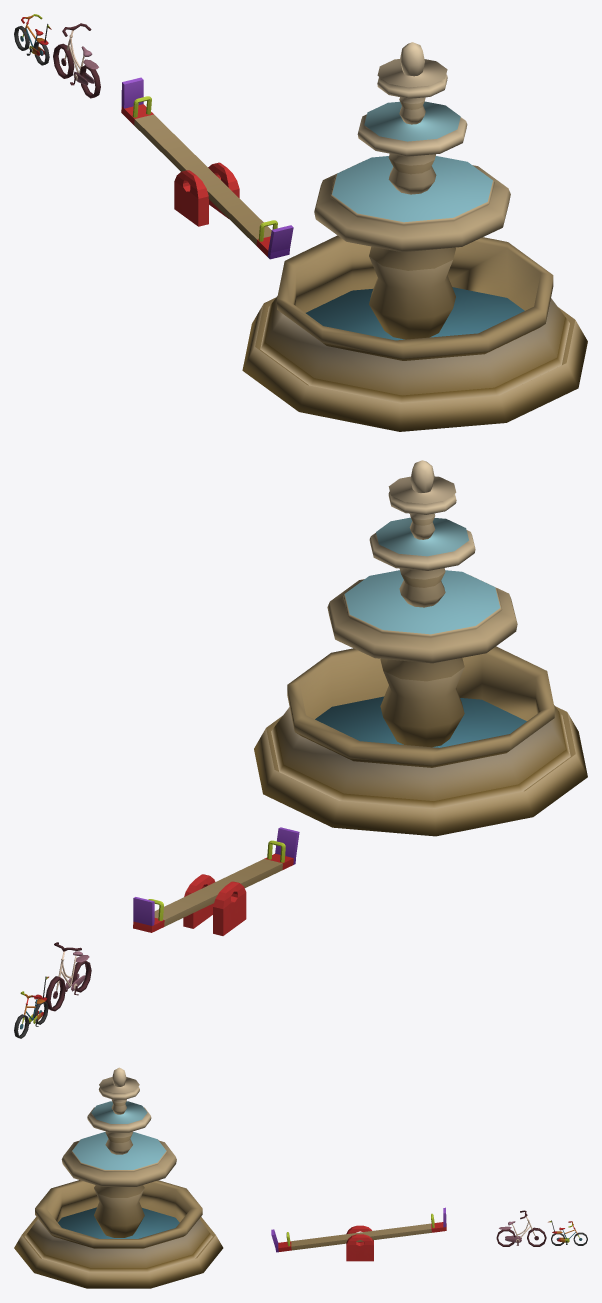
The model's file is Bikes+ExtraPark.fbx.
The picture shows the model from 3 angles, top to bottom: view 1: azimuth 30°, elevation 25°; view 2: azimuth 150°, elevation 25°; view 3: azimuth 270°, elevation 25°; orthographic projection. The views are drawn at different scales.
Visible parts, largest first — view 1: Cube.033, Cylinder.015, Cube.038, Cylinder.033; view 2: Cube.033, Cylinder.015, Cube.038, Cylinder.033; view 3: Cube.033, Cylinder.015, Cube.038, Cylinder.033.
Boxes of the visible parts, box(x1,y1,x2,y2) form: Cube.033: box(242, 42, 587, 431); Cylinder.015: box(121, 77, 293, 259); Cube.038: box(53, 23, 100, 98); Cylinder.033: box(14, 14, 51, 65); Cube.033: box(254, 460, 587, 836); Cylinder.015: box(133, 827, 299, 935); Cube.038: box(45, 942, 91, 1011); Cylinder.033: box(14, 976, 48, 1038); Cube.033: box(14, 1067, 223, 1288); Cylinder.015: box(271, 1207, 446, 1261); Cube.038: box(496, 1210, 546, 1246); Cylinder.033: box(548, 1220, 587, 1245).
Size of the model in its own units: 726 by 781 by 2177.
Materials: 2 (2 with a texture image).
